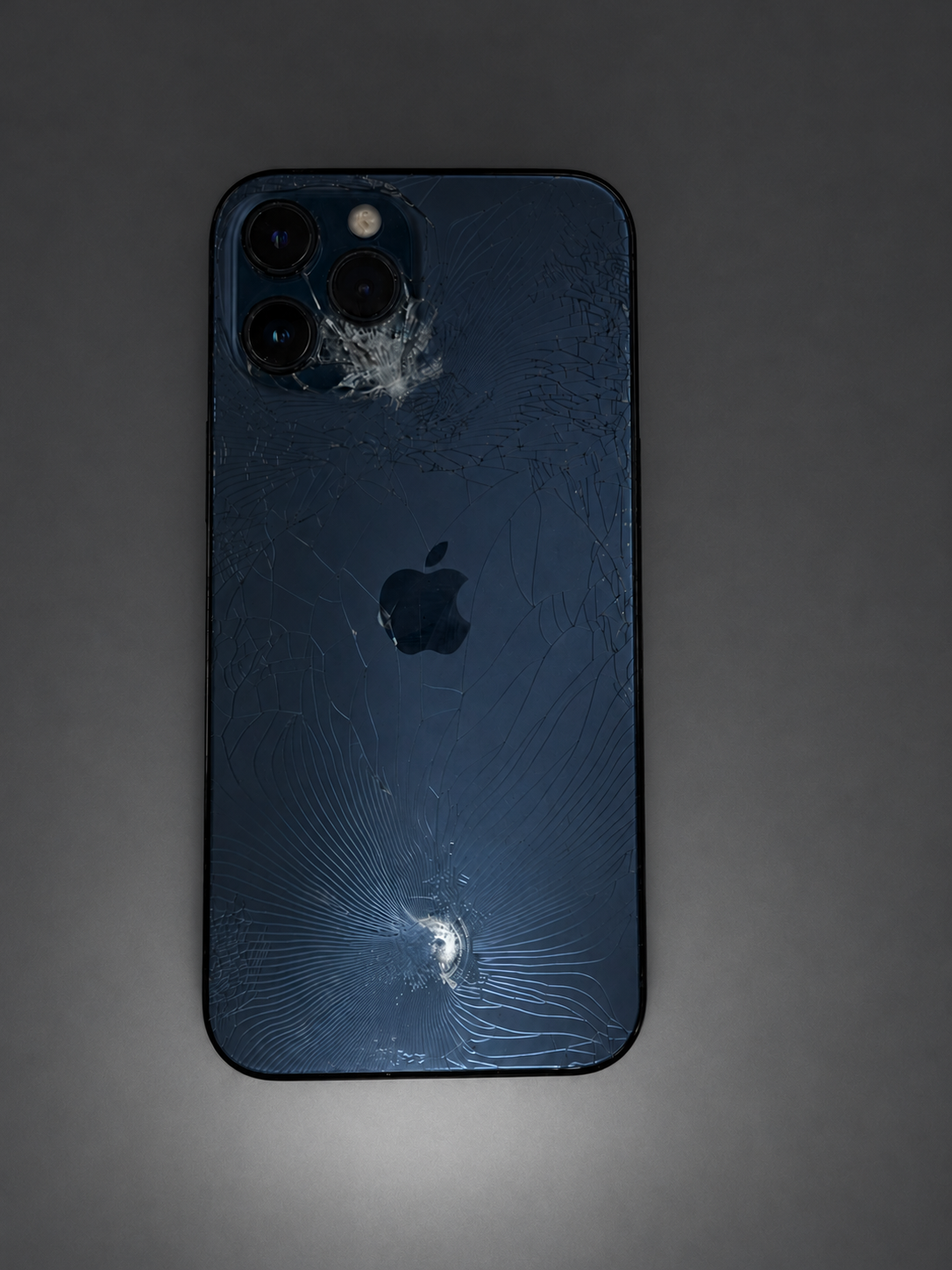iphone_12_pro_max_Crack: (169, 127, 681, 1160)
